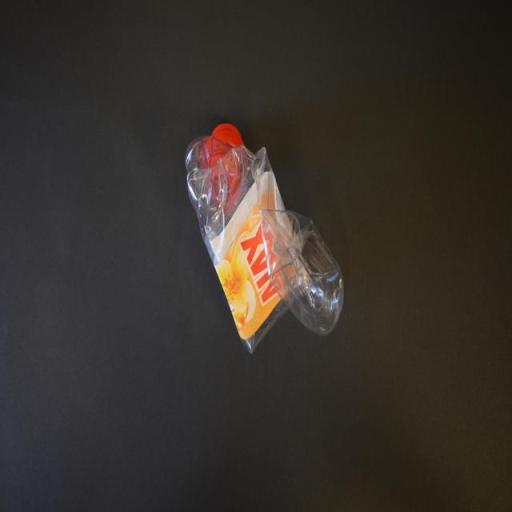plastic: (186, 124, 346, 358)
